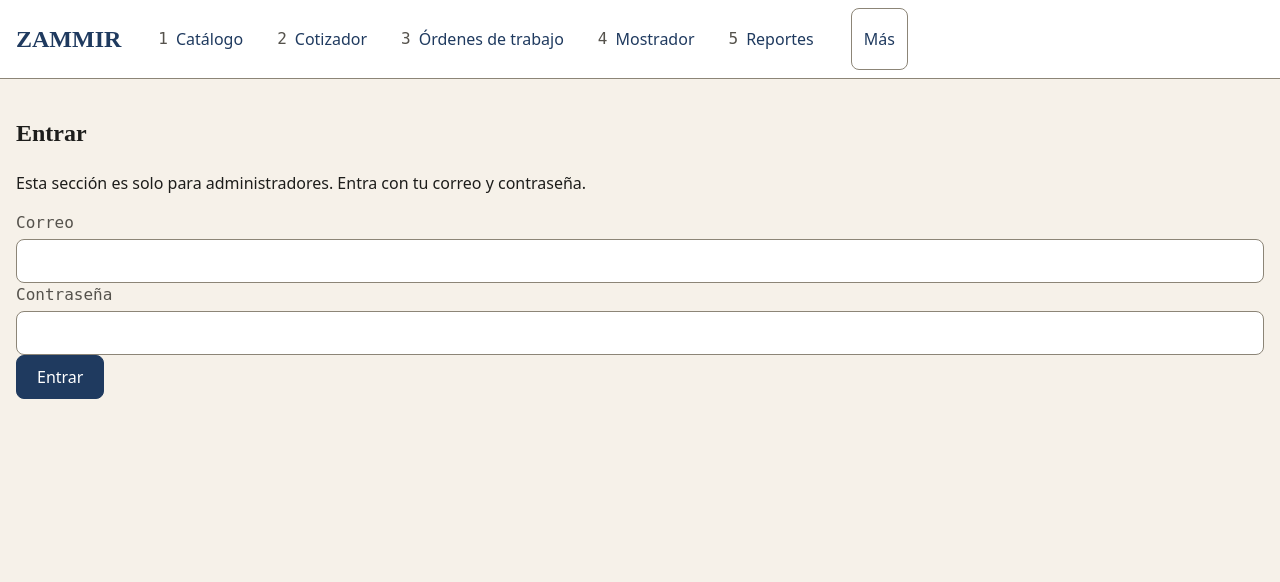
Test: pantalla de bitácora › sin movimientos dice que no hay
Type "a@ejemplo.invalid" into the field labelled "Correo" at x=640, y=261, box [16,239,1264,283]
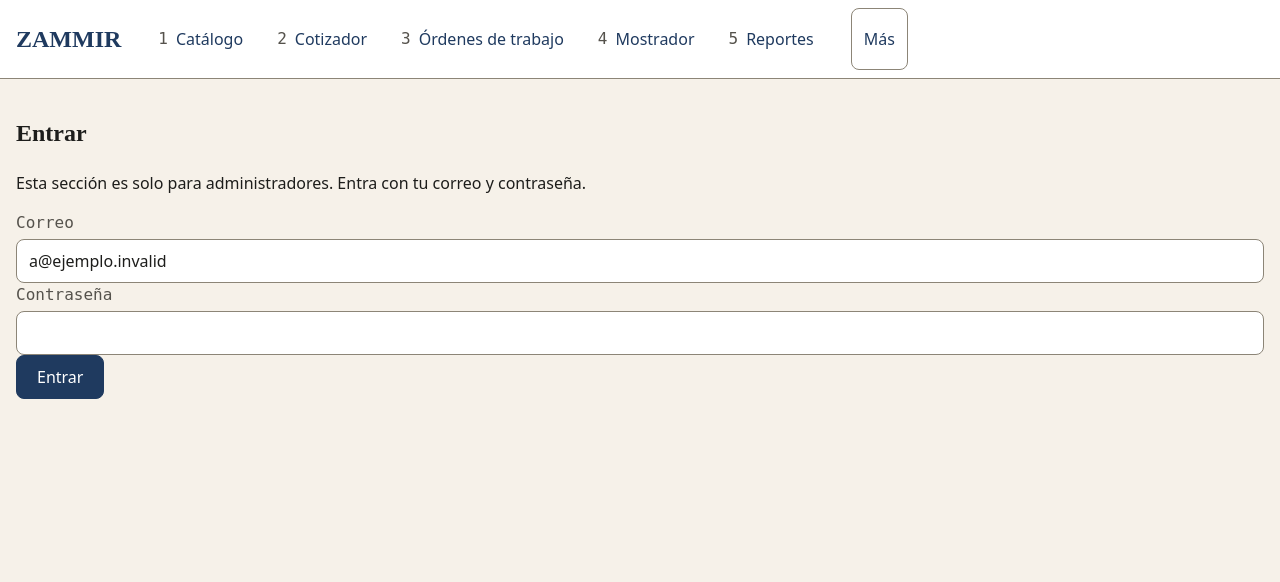
Type "clave-de-prueba-1" into the password field labelled "Contraseña" at x=640, y=333, box [16,311,1264,355]
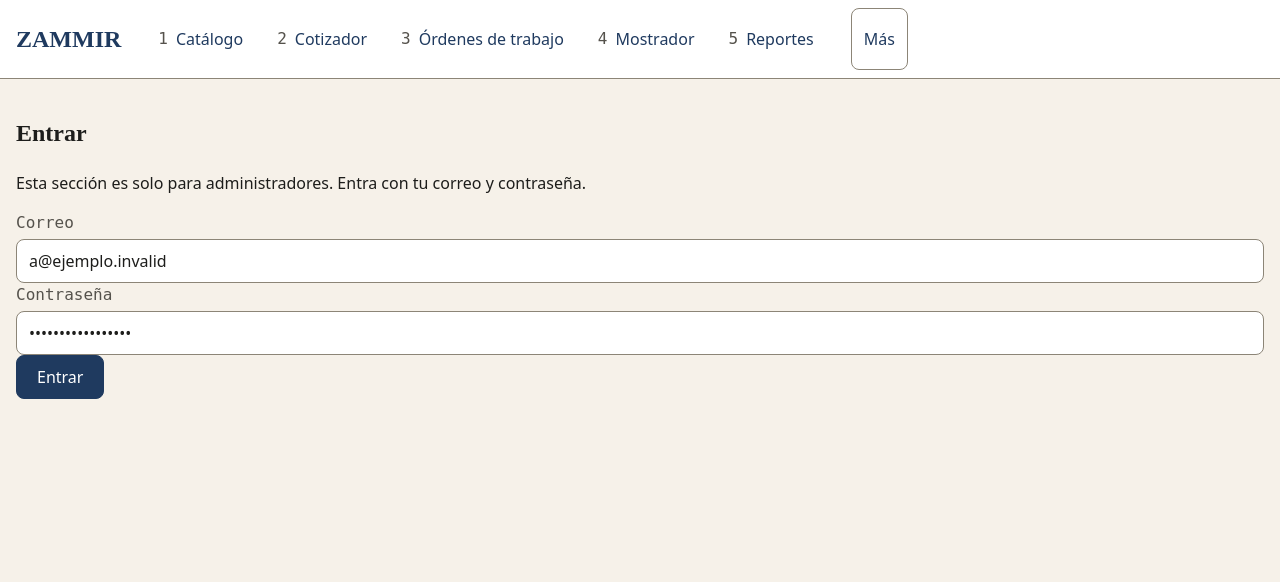
Click the button "Entrar" at x=60, y=377, box [16,355,104,399]
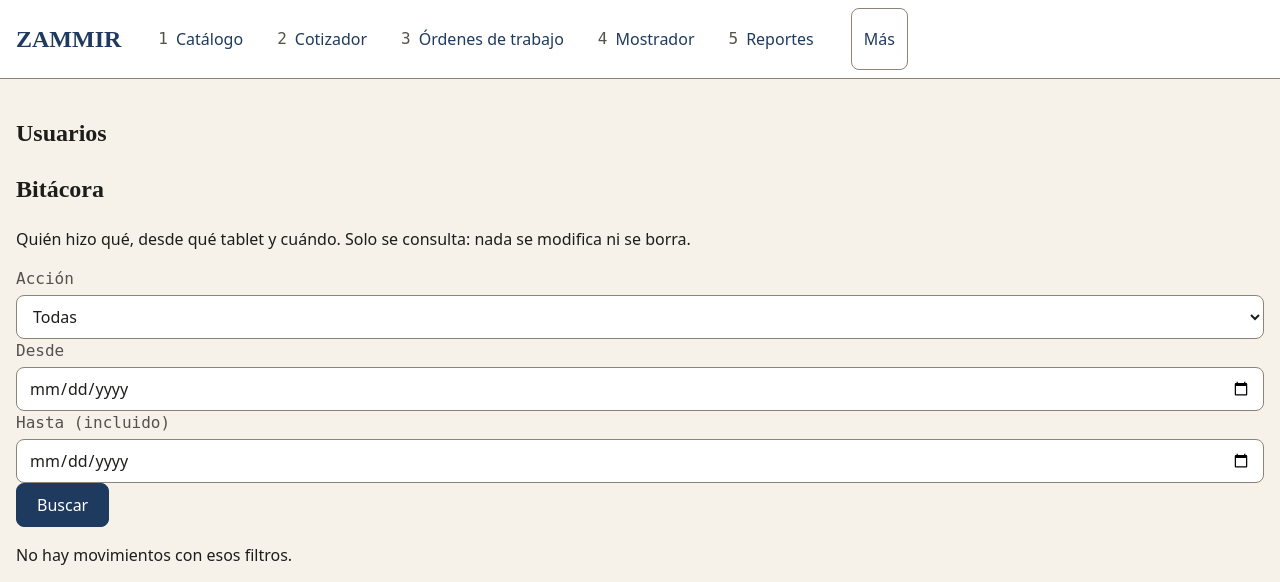
Expected: the text "No hay movimientos con esos filtros." is shown, [16,544,292,566]
